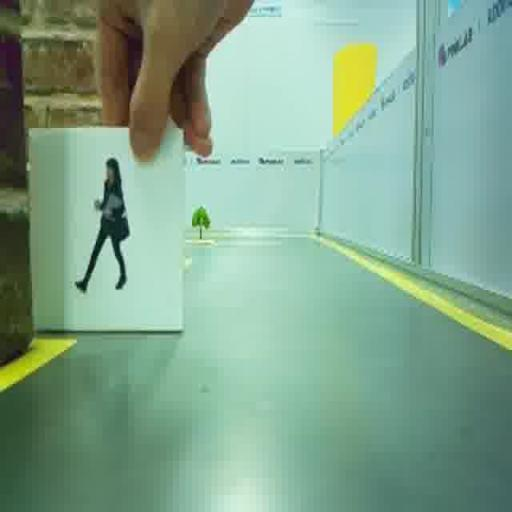human: (75, 158, 129, 292)
